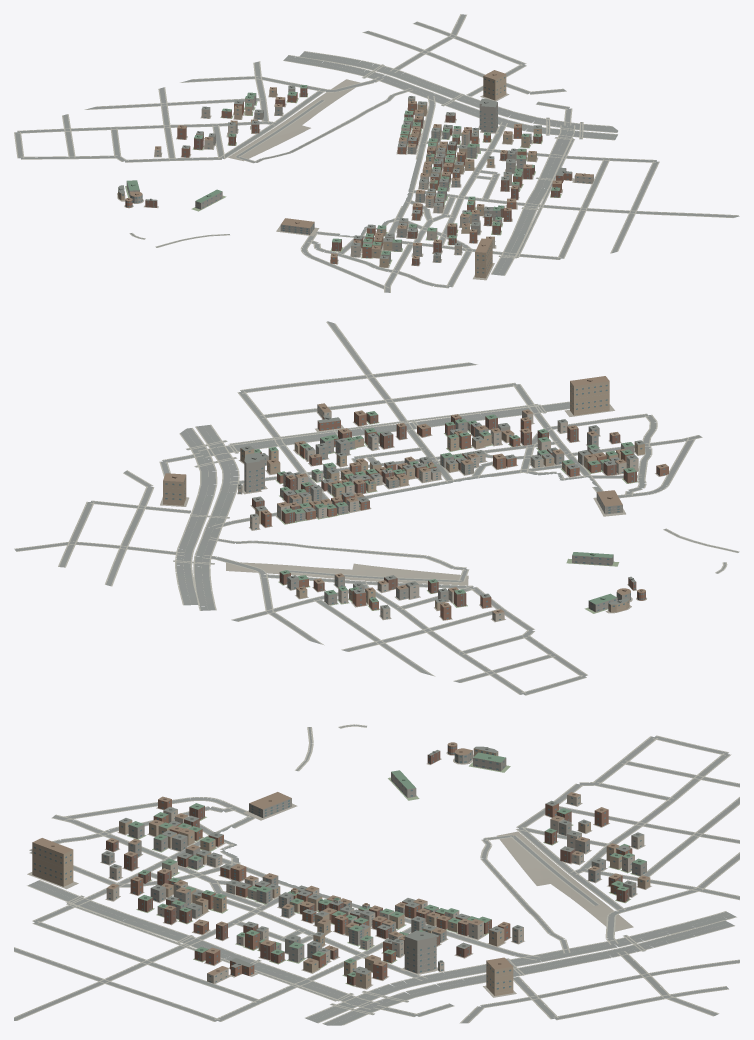
3 views of the same model, one above another, from view 1: azimuth 30°, elevation 25°; view 2: azimuth 150°, elevation 25°; view 3: azimuth 270°, elevation 25° (orthographic). The views are drawn at different scales.
Visible parts, largest first — view 1: context-osm-roads, context-osm-buildings, context-osm-sidewalks, context-building-plinths; view 2: context-osm-buildings, context-osm-roads, context-osm-sidewalks, context-building-plinths; view 3: context-osm-buildings, context-osm-roads, context-osm-sidewalks, context-building-plinths.
Part boxes in pixels (left/top/right/bottom): context-osm-roads: left=15, top=14, right=739, bottom=292; context-osm-buildings: left=118, top=70, right=593, bottom=278; context-osm-sidewalks: left=14, top=14, right=738, bottom=292; context-building-plinths: left=117, top=79, right=591, bottom=280; context-osm-buildings: left=163, top=376, right=668, bottom=621; context-osm-roads: left=15, top=321, right=738, bottom=694; context-osm-sidewalks: left=14, top=322, right=739, bottom=695; context-building-plinths: left=160, top=404, right=666, bottom=622; context-osm-buildings: left=32, top=742, right=650, bottom=995; context-osm-roads: left=14, top=725, right=739, bottom=1025; context-osm-sidewalks: left=14, top=724, right=739, bottom=1025; context-building-plinths: left=27, top=752, right=651, bottom=997.
Bounding box in the file's own units: 701 × 44.62 × 720.
